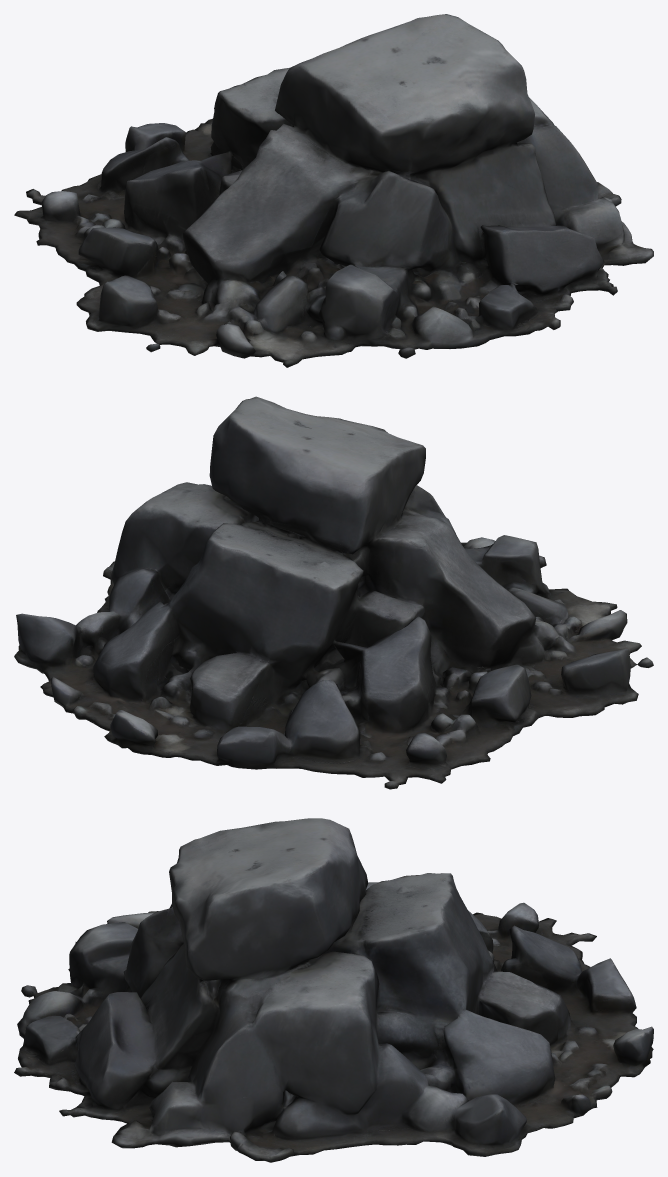
File: rubble_small.glb
The picture shows the model from 3 angles, top to bottom: view 1: azimuth 30°, elevation 25°; view 2: azimuth 150°, elevation 25°; view 3: azimuth 270°, elevation 25°; orthographic projection. The views are drawn at different scales.
Size of the model in its own units: 2 by 0.7519 by 1.96.
Materials: 1 (1 with a texture image).
